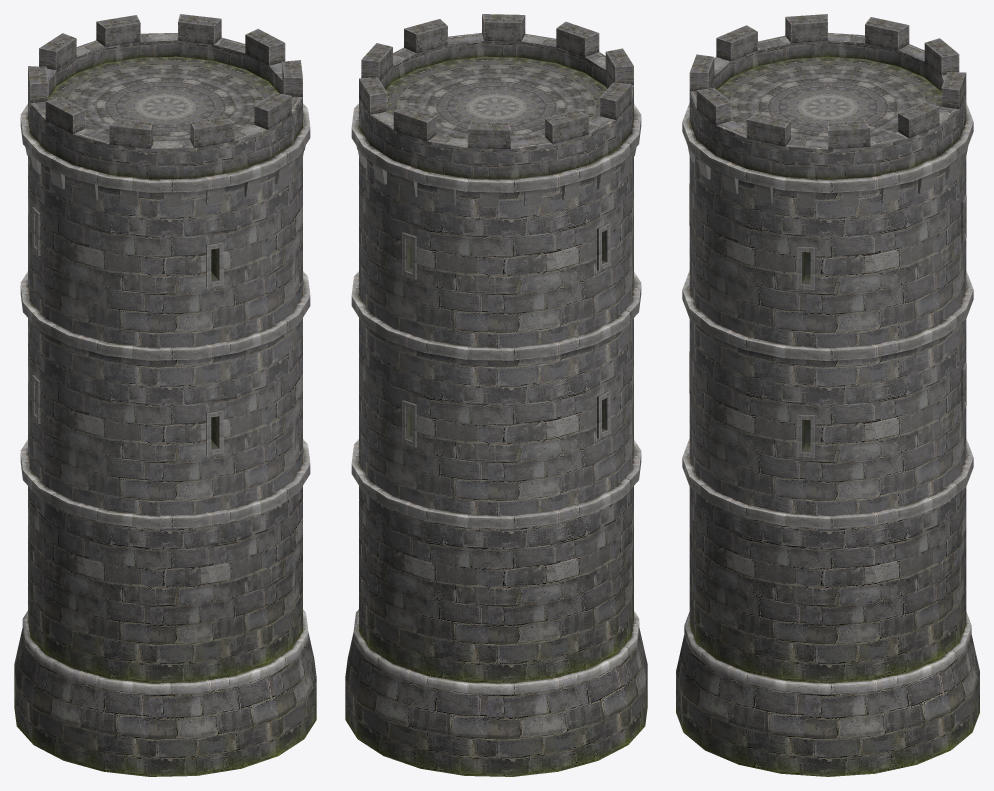
The model's file is CastleBigColumn.FBX.
3 renders of one model, left to right at view 1: azimuth 30°, elevation 25°; view 2: azimuth 150°, elevation 25°; view 3: azimuth 270°, elevation 25°, orthographic.
Parts seen in each view (by area): view 1: CastleBigColumn; view 2: CastleBigColumn; view 3: CastleBigColumn.
Boxes of the visible parts, x1=… form: CastleBigColumn: x1=14, y1=14, x2=316, y2=776; CastleBigColumn: x1=345, y1=14, x2=647, y2=776; CastleBigColumn: x1=676, y1=14, x2=979, y2=776.
Size of the model in its own units: 2211 by 5140 by 2211.
